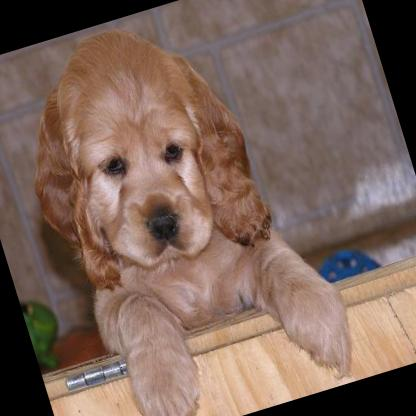cocker_spaniel: (0, 0, 367, 416)
